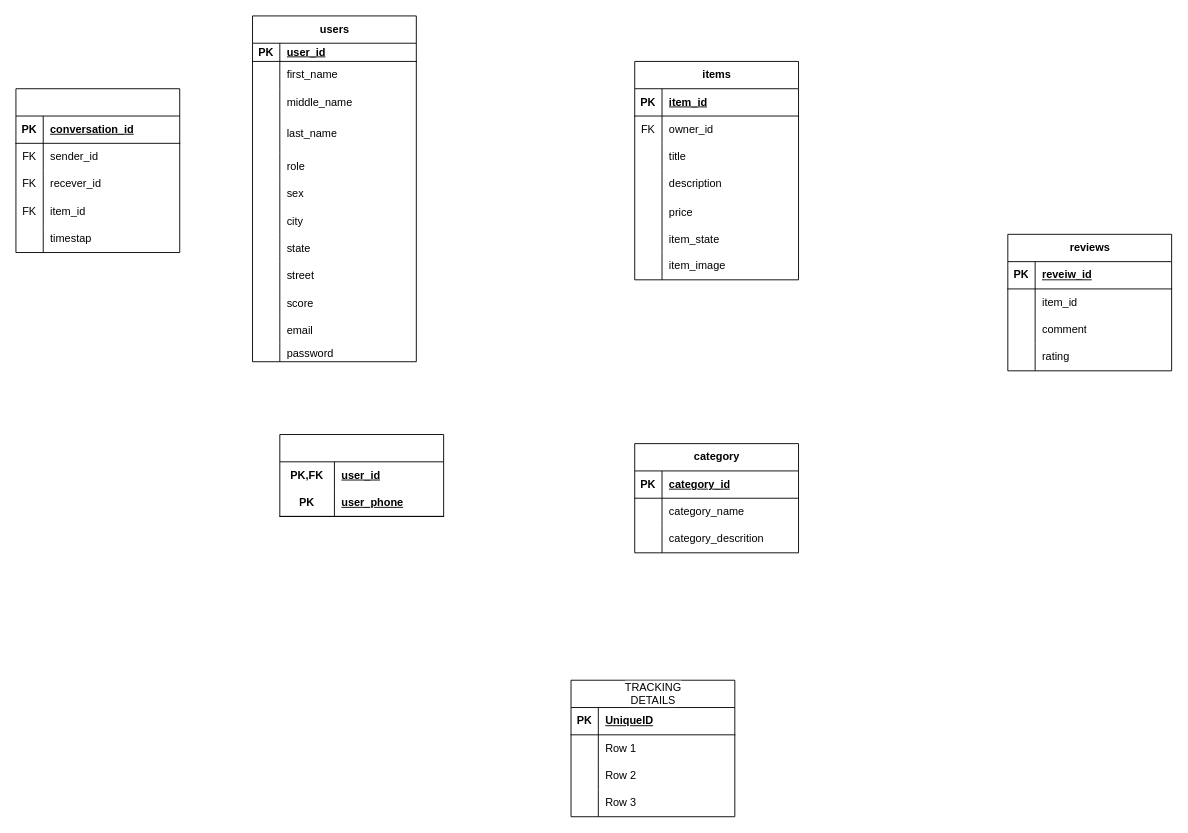
The diagram is 1188 pixels wide and 833 high, and some of its shapes have lost their labels. Here are the shapes that lost their labels. From the top down, the box of each, then its label:
(15, 88, 180, 253): conversations
(279, 434, 444, 516): user_phone_number
